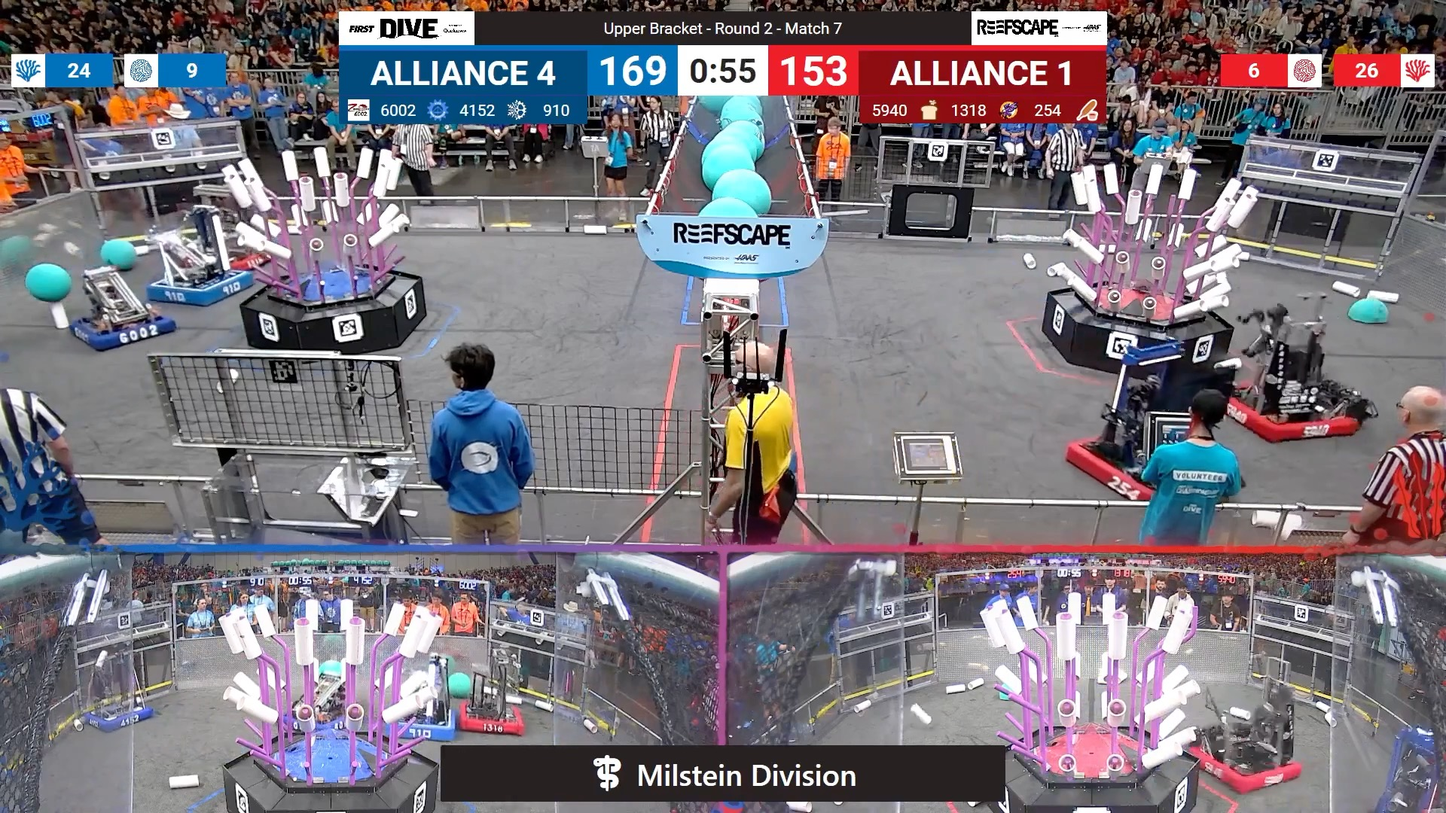bumpers: (1055, 426, 1214, 506), (1211, 374, 1372, 449), (1172, 736, 1307, 796), (142, 262, 267, 310), (66, 304, 188, 352), (449, 699, 530, 742), (159, 244, 277, 272), (77, 701, 162, 738)
